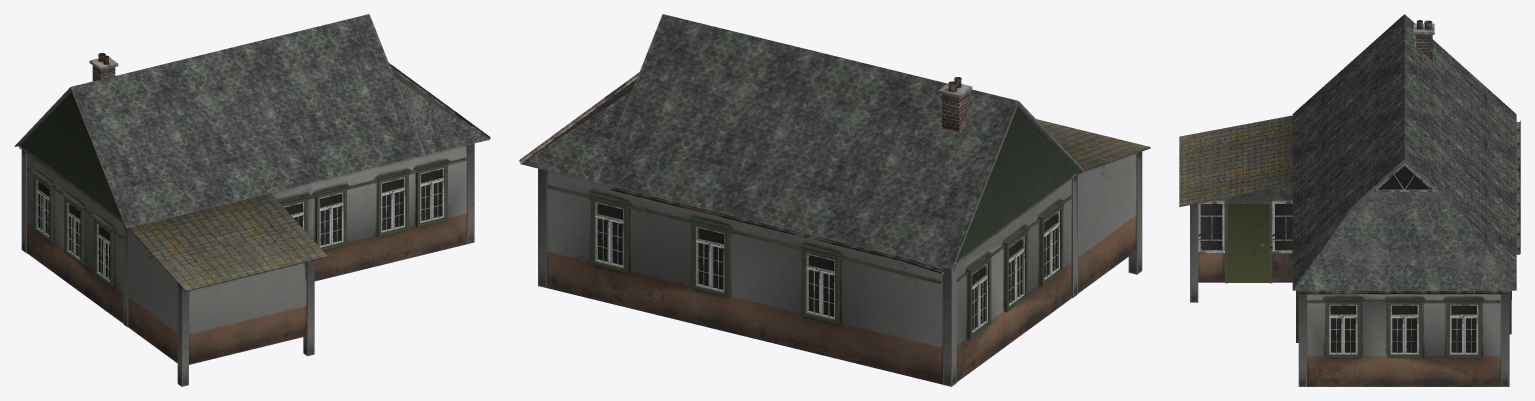
The model's file is h_house.glb.
3 views of the same model, side by side, from view 1: azimuth 30°, elevation 25°; view 2: azimuth 150°, elevation 25°; view 3: azimuth 270°, elevation 25° (orthographic). The views are drawn at different scales.
Visible parts, largest first — view 1: body|roof, body|walls, body|windows, body|details; view 2: body|roof, body|walls, body|windows, body|details; view 3: body|roof, body|walls, body|windows, body|details.
Part boxes in pixels (box(x1,y1,x2,y2)): body|roof: box(14, 14, 488, 291); body|walls: box(21, 143, 474, 386); body|windows: box(31, 160, 450, 286); body|details: box(18, 53, 490, 149); body|roof: box(520, 14, 1150, 269); body|walls: box(538, 151, 1142, 386); body|windows: box(587, 192, 1066, 339); body|details: box(519, 72, 972, 274); body|roof: box(1179, 14, 1516, 290); body|walls: box(1190, 186, 1509, 386); body|windows: box(1198, 163, 1511, 357); body|details: box(1261, 20, 1520, 294).
Bounding box in the file's own units: 12.01 × 7.4 × 9.71.
Materials: 4 (4 with a texture image).
